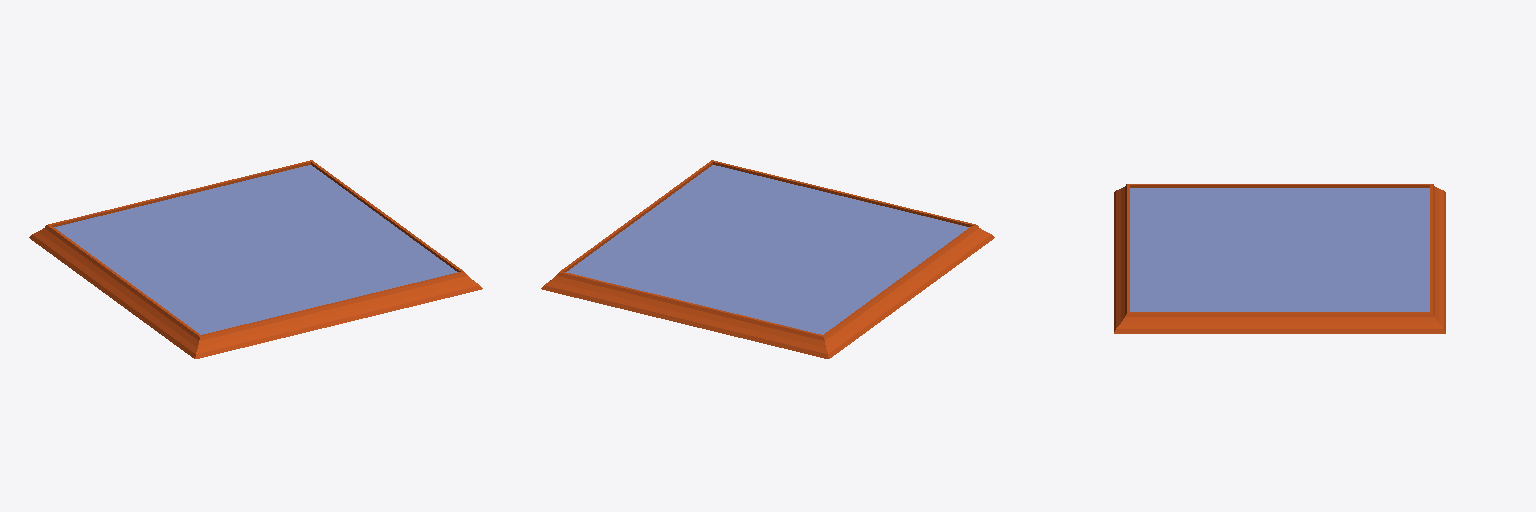
Rendered from chess_board.obj.
3 views of the same model, side by side, from view 1: azimuth 30°, elevation 25°; view 2: azimuth 150°, elevation 25°; view 3: azimuth 270°, elevation 25° (orthographic).
Visible parts, largest first — view 1: Cube; view 2: Cube; view 3: Cube.
Boxes of the visible parts, box(x1,y1,x2,y2) form: Cube: box(29, 160, 482, 358); Cube: box(541, 160, 994, 358); Cube: box(1114, 184, 1445, 333).
Bounding box in the file's own units: 35.52 × 1.77 × 35.52.